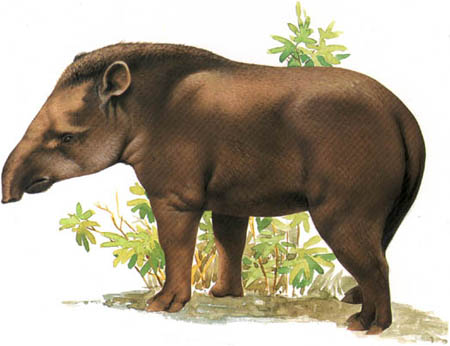Anta: (2, 39, 429, 340)
